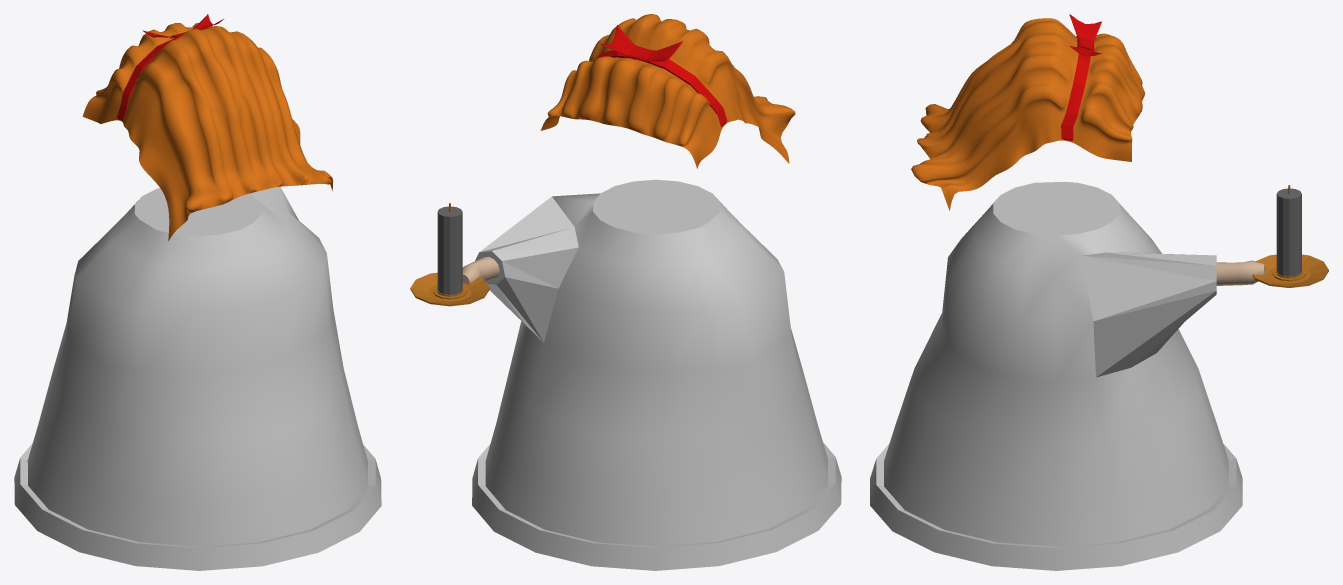
File: Main_Char_Body.FBX
The picture shows the model from 3 angles, left to right: view 1: azimuth 30°, elevation 25°; view 2: azimuth 150°, elevation 25°; view 3: azimuth 270°, elevation 25°; orthographic projection.
Visible parts, largest first — view 1: Cylinder001; view 2: Cylinder001; view 3: Cylinder001.
Part boxes in pixels (box(x1,y1,x2,y2)): Cylinder001: box(14, 14, 381, 570); Cylinder001: box(410, 14, 841, 570); Cylinder001: box(870, 14, 1328, 570).
Size of the model in its own units: 77.26 by 107 by 95.15.
